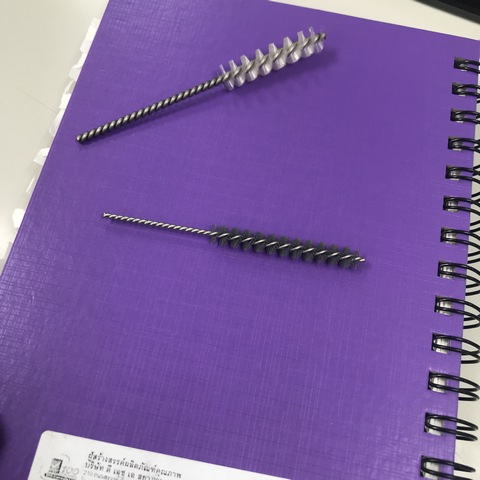Twist Brush-A: (100, 203, 366, 274)
Twist Brush-B: (73, 26, 340, 148)
